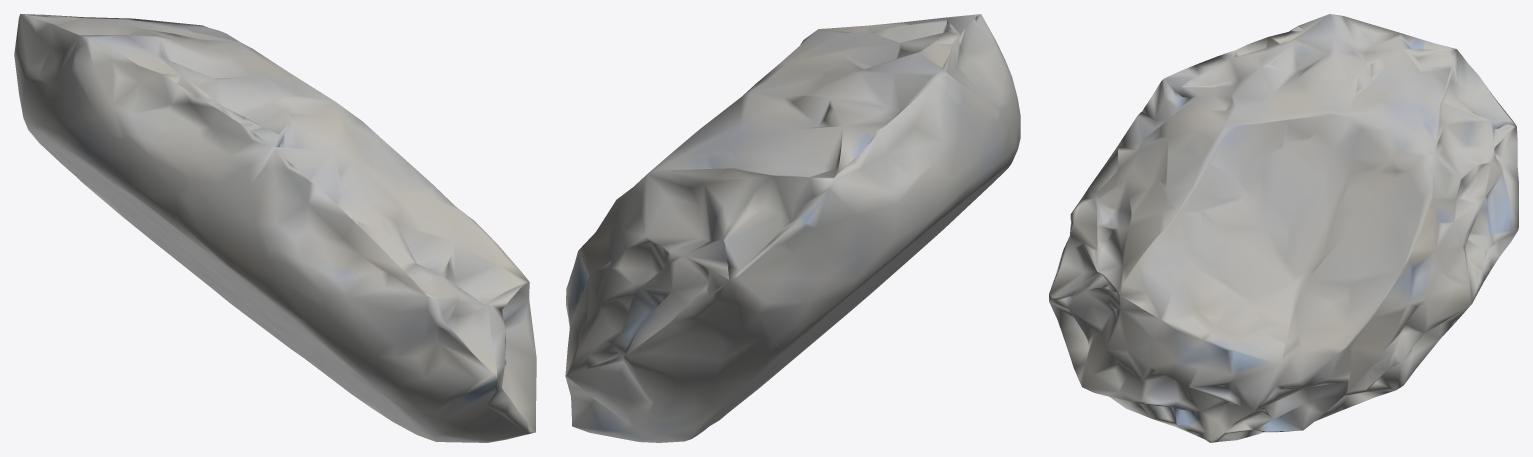
Rendered from item_gem.glb.
3 views of the same model, side by side, from view 1: azimuth 30°, elevation 25°; view 2: azimuth 150°, elevation 25°; view 3: azimuth 270°, elevation 25° (orthographic). The views are drawn at different scales.
Parts seen in each view (by area): view 1: tripo_node_8c87b631-ed44-4202-8446-0c9bd03542a7; view 2: tripo_node_8c87b631-ed44-4202-8446-0c9bd03542a7; view 3: tripo_node_8c87b631-ed44-4202-8446-0c9bd03542a7.
Boxes of the visible parts, <box> form: tripo_node_8c87b631-ed44-4202-8446-0c9bd03542a7: <box>14,14,536,442</box>; tripo_node_8c87b631-ed44-4202-8446-0c9bd03542a7: <box>565,14,1020,442</box>; tripo_node_8c87b631-ed44-4202-8446-0c9bd03542a7: <box>1049,14,1518,442</box>.
Size of the model in its own units: 0.7116 by 0.7202 by 1.
1 material, 1 textured.
